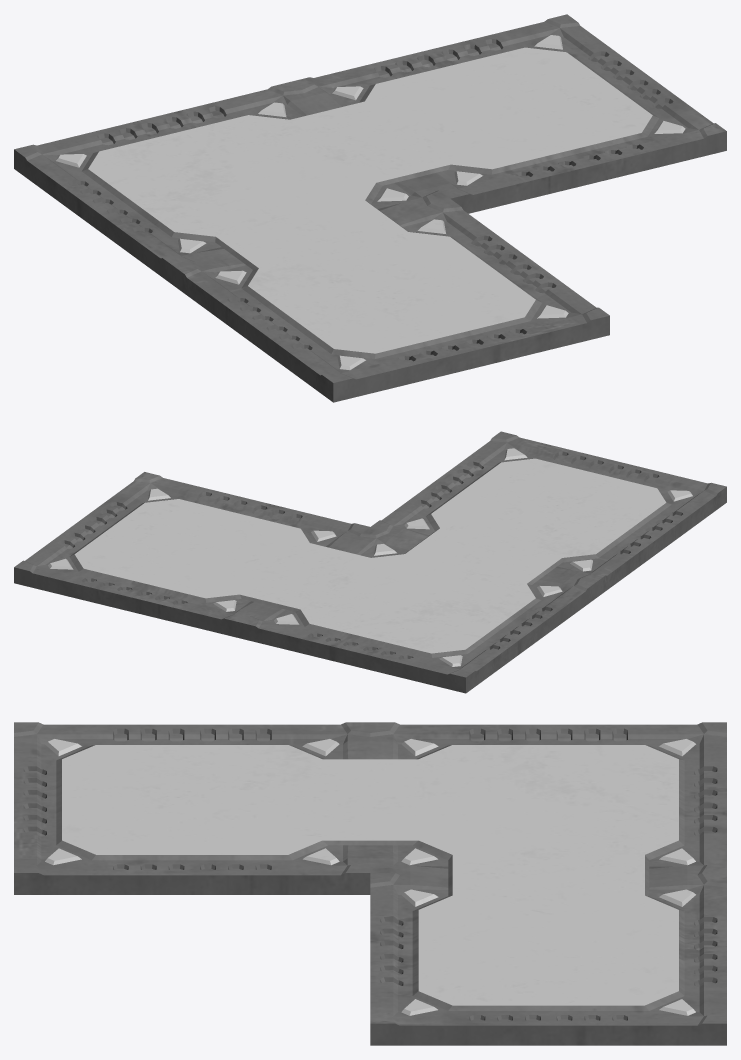
Rendered from Floor L.fbx.
The picture shows the model from 3 angles, top to bottom: view 1: azimuth 30°, elevation 25°; view 2: azimuth 150°, elevation 25°; view 3: azimuth 270°, elevation 25°; orthographic projection. The views are drawn at different scales.
Visible parts, largest first — view 1: Plane.007; view 2: Plane.007; view 3: Plane.007.
Part boxes in pixels (box(x1,y1,x2,y2)): Plane.007: box(14, 14, 726, 402); Plane.007: box(14, 431, 726, 693); Plane.007: box(14, 722, 726, 1045).
Size of the model in its own units: 400 by 13.52 by 400.
1 material, 1 textured.
